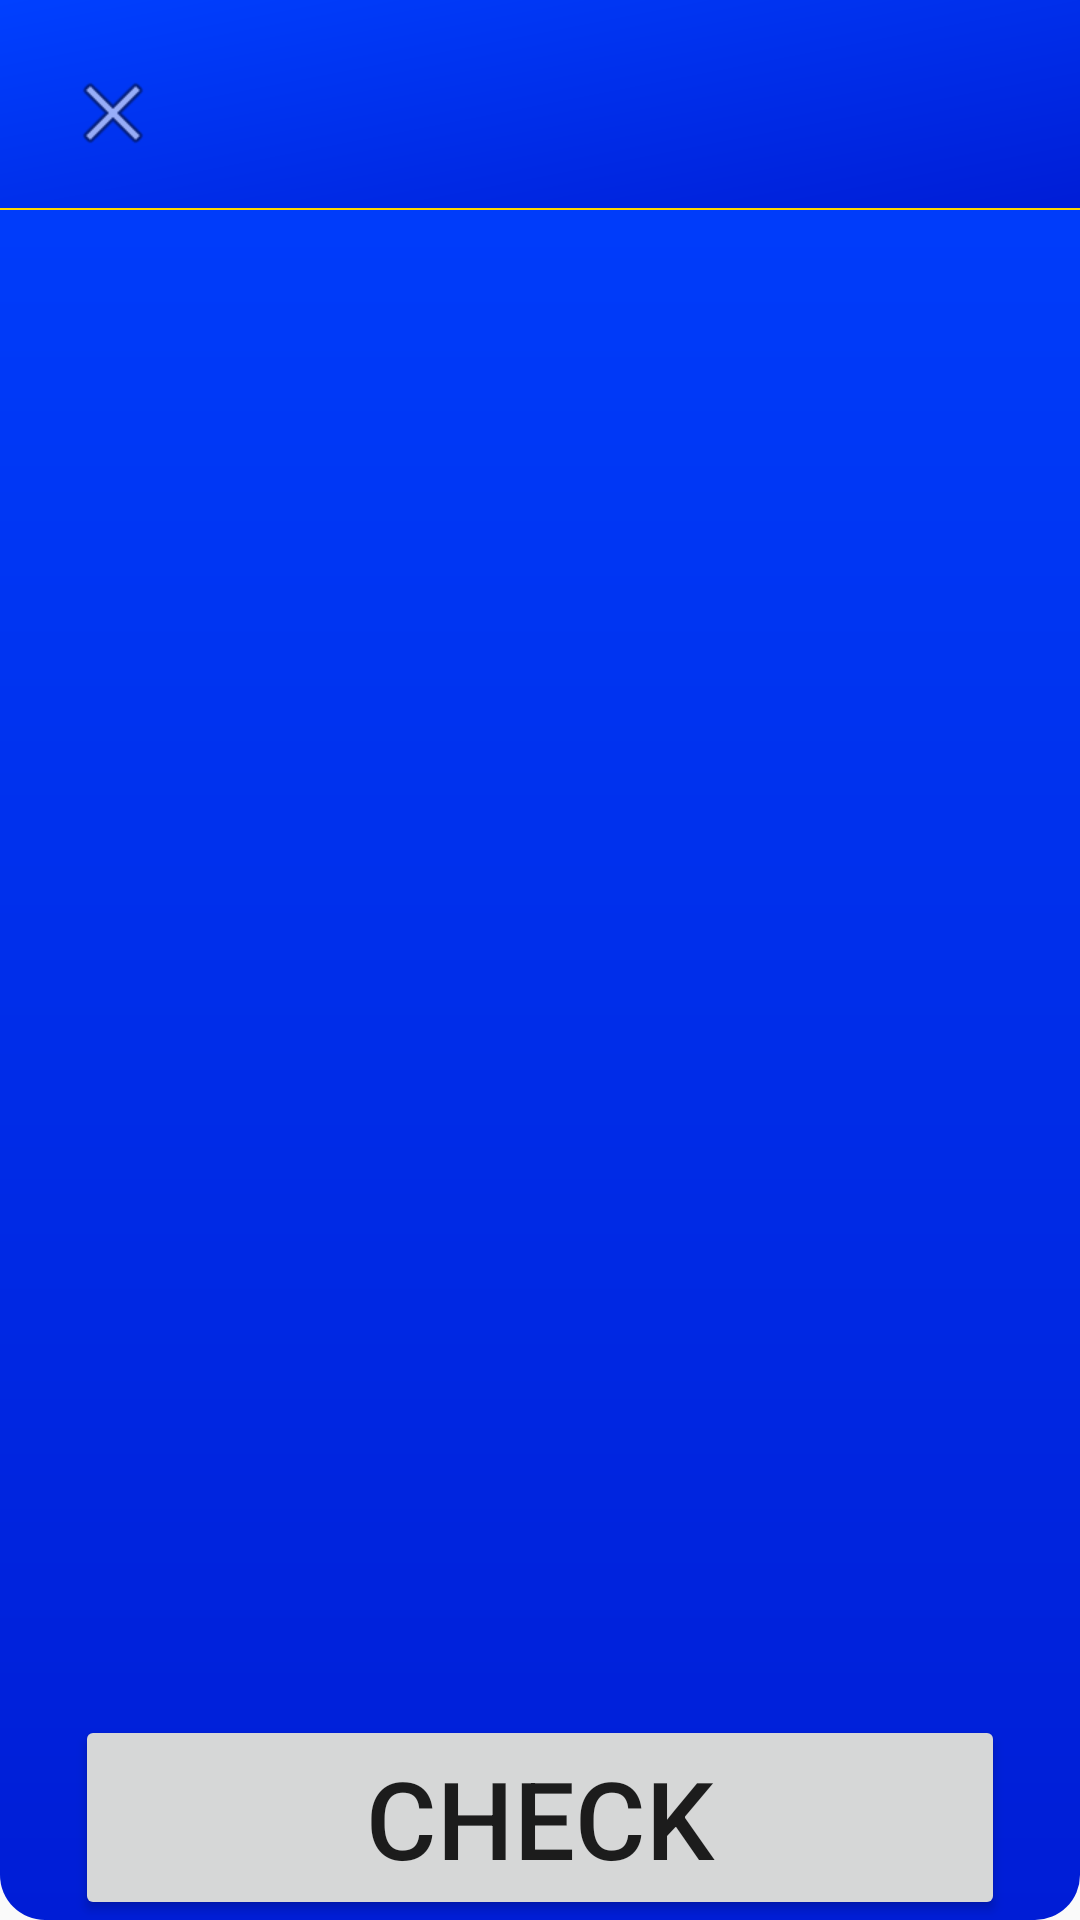

Where to tap for icons on this 1080 × 1920 app screen, as [x,y]:
close clear cancel: [113,113]
